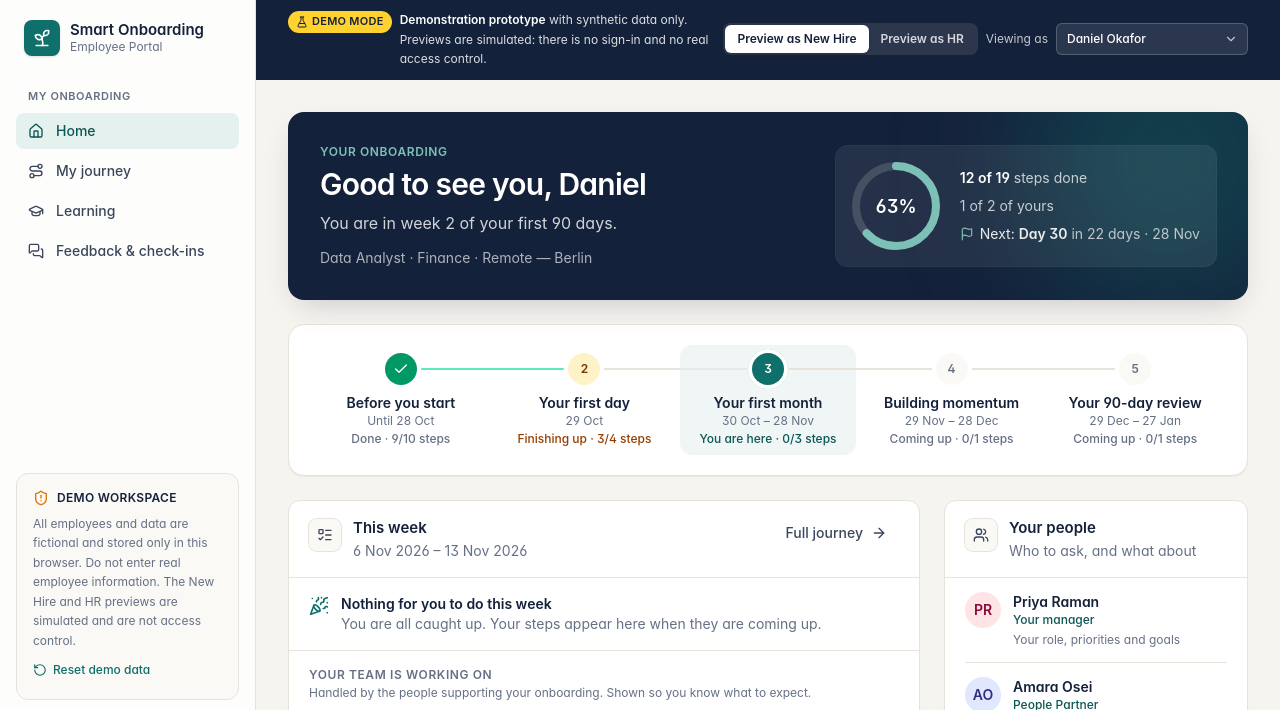
it: Demo Mode switch › switches to the HR workspace and back
Click the radio button labelled "Preview as HR": (922, 39) [881, 31, 964, 46]
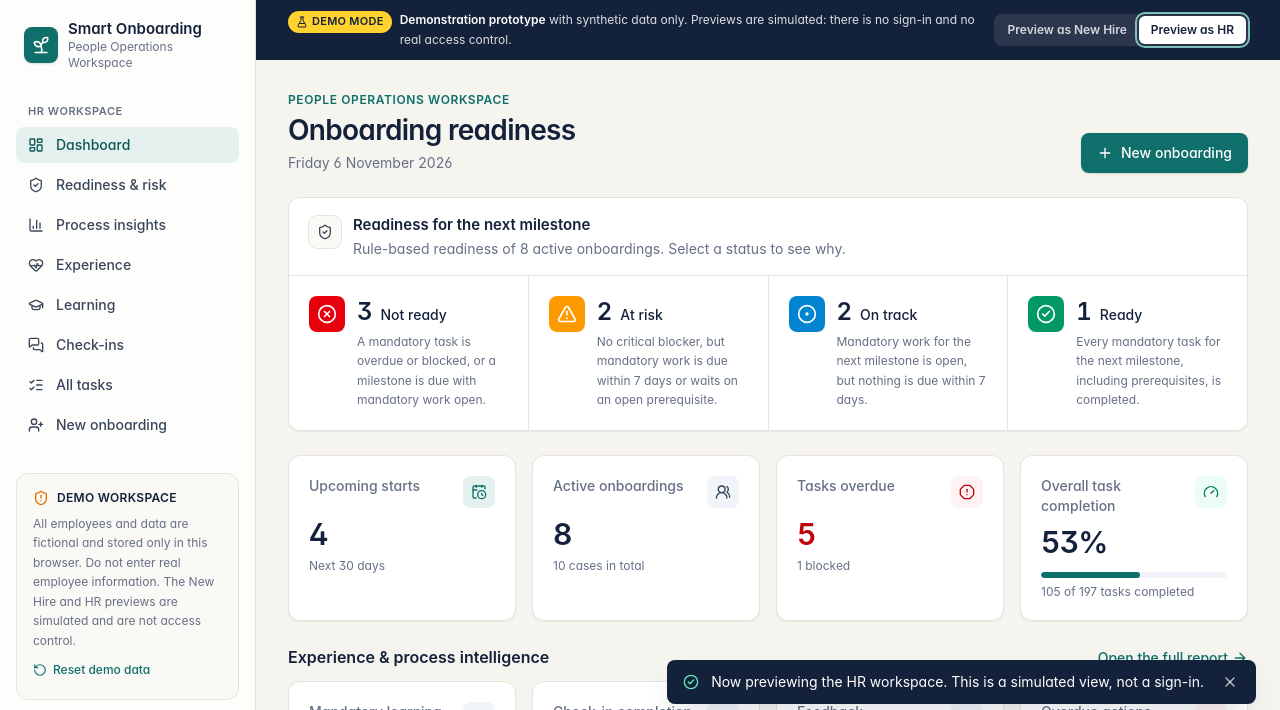
Expected: the heading "Onboarding readiness" is shown, [288, 112, 575, 149]
Expected: the label labelled "Viewing as" is gone
Expected: the message shows "simulated view, not a sign-in", [711, 673, 1204, 690]
Click the radio button labelled "Preview as New Hire": (1067, 29) [1008, 22, 1127, 36]
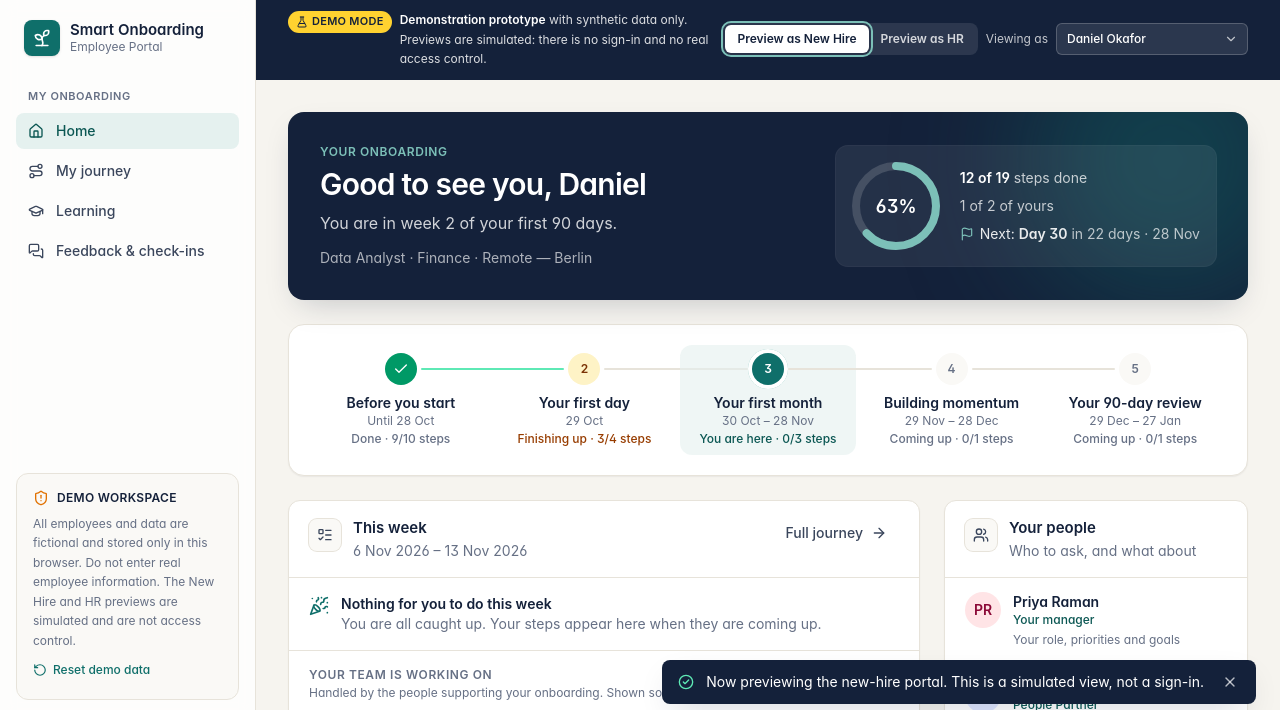
Expected: the heading "Good to see you, Daniel" is shown, [320, 166, 646, 202]
